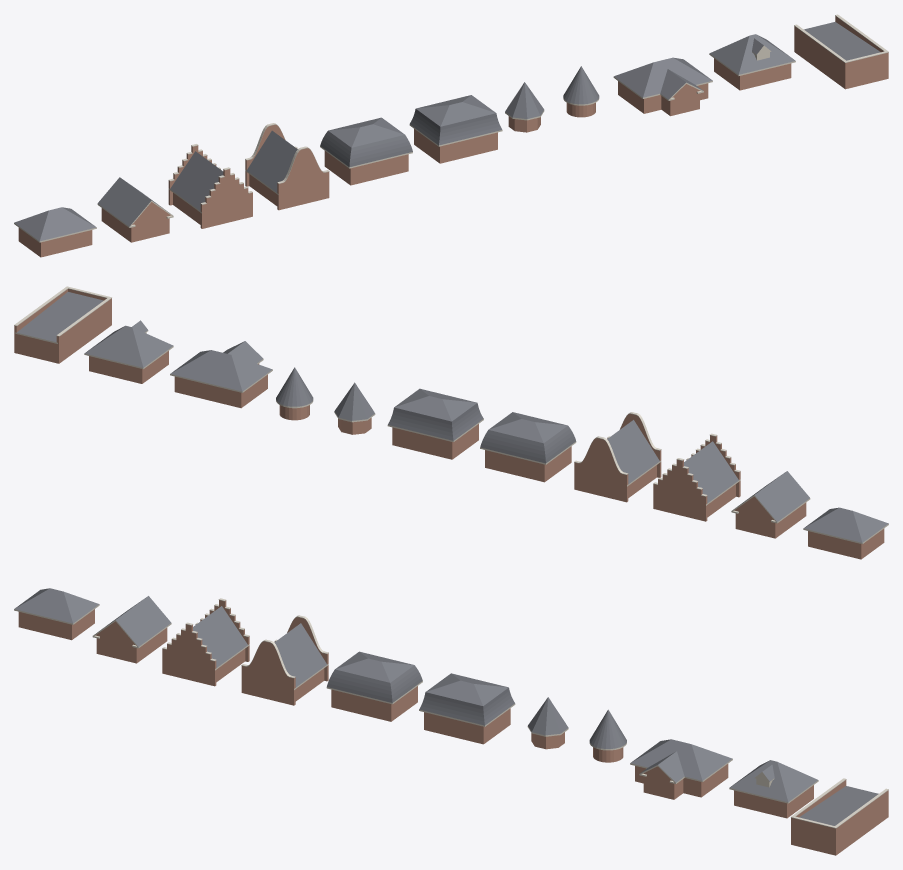
File: k05_roof_kit.glb
3 renders of one model, top to bottom at view 1: azimuth 30°, elevation 25°; view 2: azimuth 150°, elevation 25°; view 3: azimuth 330°, elevation 25°, orthographic. The views are drawn at different scales.
Parts seen in each view (by area): view 1: k05.roof.gable_ogee, k05.roof.mansard_concave, k05.roof.flat_parapet, k05.roof.mansard_convex, k05.roof.gable_stepped, k05.roof.cross_gable, k05.roof.dormer, k05.roof.gable, k05.roof.hip, k05.roof.tower_octagonal, k05.roof.tower_conical; view 2: k05.roof.flat_parapet, k05.roof.gable_ogee, k05.roof.mansard_concave, k05.roof.gable_stepped, k05.roof.mansard_convex, k05.roof.cross_gable, k05.roof.dormer, k05.roof.gable, k05.roof.hip, k05.roof.tower_octagonal, k05.roof.tower_conical; view 3: k05.roof.gable_ogee, k05.roof.mansard_concave, k05.roof.flat_parapet, k05.roof.gable_stepped, k05.roof.mansard_convex, k05.roof.cross_gable, k05.roof.dormer, k05.roof.gable, k05.roof.hip, k05.roof.tower_octagonal, k05.roof.tower_conical.
Part boxes in pixels (x1,y1,x2,y2): k05.roof.gable_ogee: (245,123,329,210); k05.roof.mansard_concave: (409,95,502,163); k05.roof.flat_parapet: (794,14,888,89); k05.roof.mansard_convex: (320,117,412,185); k05.roof.gable_stepped: (168,144,252,228); k05.roof.cross_gable: (613,57,712,116); k05.roof.dormer: (709,34,795,90); k05.roof.gable: (97,177,173,242); k05.roof.hip: (14,207,96,257); k05.roof.tower_octagonal: (505,82,544,132); k05.roof.tower_conical: (563,66,599,117); k05.roof.flat_parapet: (14,286,111,363); k05.roof.gable_ogee: (574,412,661,502); k05.roof.mansard_concave: (387,388,483,459); k05.roof.gable_stepped: (653,433,740,521); k05.roof.mansard_convex: (480,412,576,482); k05.roof.cross_gable: (170,341,272,408); k05.roof.dormer: (84,320,173,383); k05.roof.gable: (731,471,810,538); k05.roof.hip: (803,507,888,559); k05.roof.tower_octagonal: (334,382,375,434); k05.roof.tower_conical: (276,367,313,420); k05.roof.gable_ogee: (241,615,328,705); k05.roof.mansard_concave: (419,673,515,744); k05.roof.flat_parapet: (791,778,888,855); k05.roof.gable_stepped: (162,598,249,686); k05.roof.mansard_convex: (326,651,422,721); k05.roof.cross_gable: (630,739,732,799); k05.roof.dormer: (729,760,818,818); k05.roof.gable: (92,596,171,663); k05.roof.hip: (14,588,99,640); k05.roof.tower_octagonal: (527,697,568,749); k05.roof.tower_conical: (589,709,626,762).
Bounding box in the file's own units: 128 × 8.31 × 14.24.
